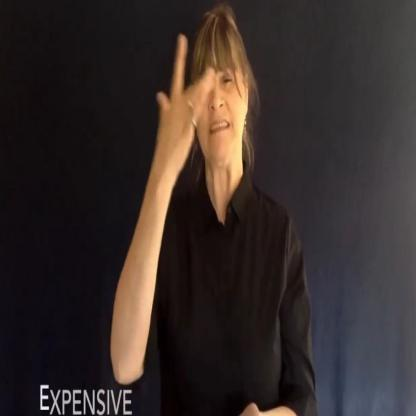Expensive: (140, 25, 281, 416)
